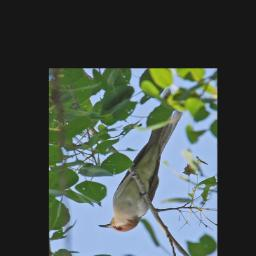Cuckoo: (98, 87, 186, 233)
